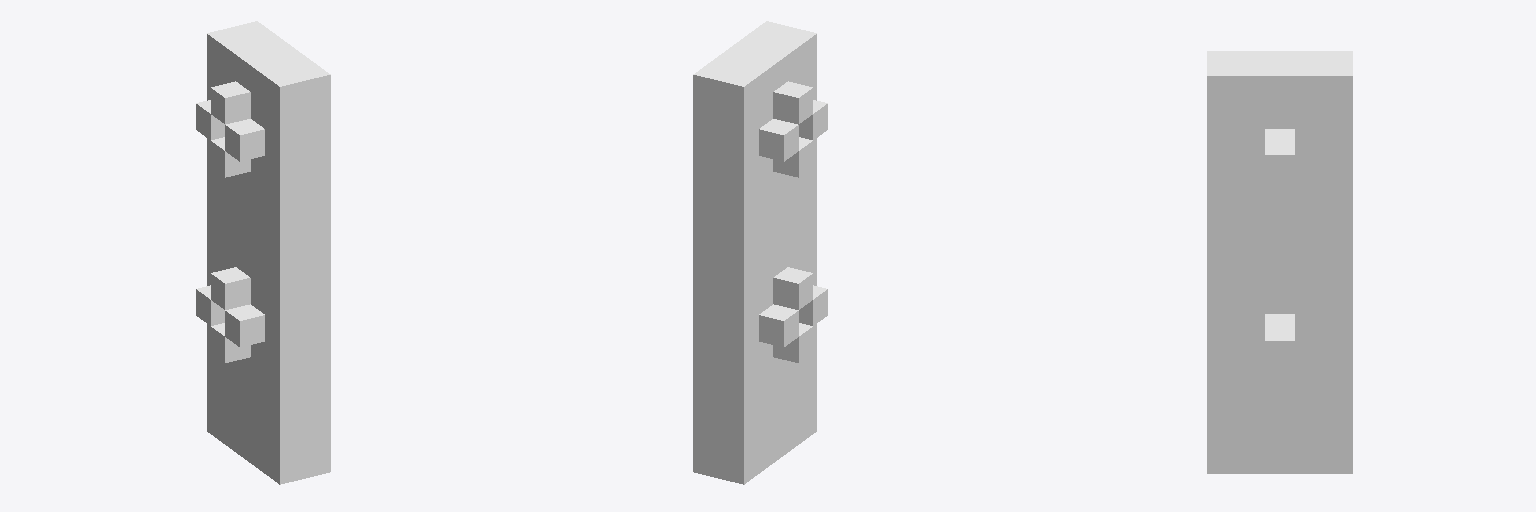
The model's file is Smol-BrokenFence-4.obj.
3 views of the same model, side by side, from view 1: azimuth 30°, elevation 25°; view 2: azimuth 150°, elevation 25°; view 3: azimuth 270°, elevation 25° (orthographic).
Visible parts, largest first — view 1: object 1; view 2: object 1; view 3: object 1.
Part boxes in pixels (bbox=[...]): object 1: bbox=[196, 21, 330, 484]; object 1: bbox=[693, 21, 827, 484]; object 1: bbox=[1207, 51, 1352, 473].
Bounding box in the file's own units: 0.3 × 1.5 × 0.5.